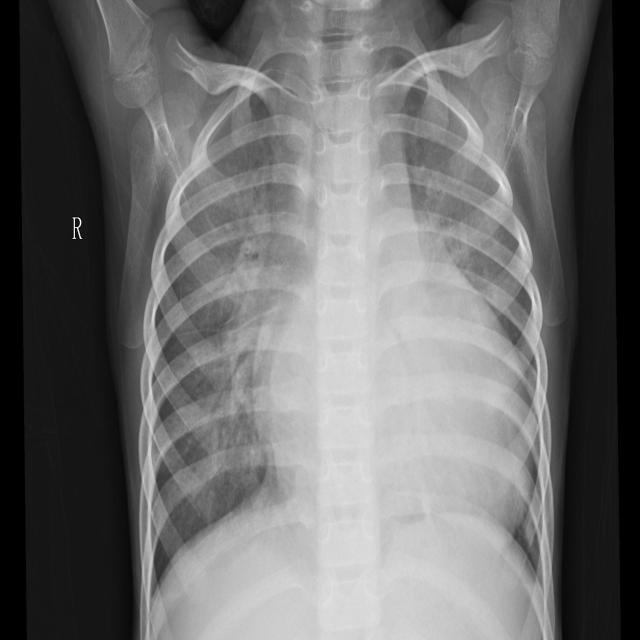low-pneumonia: (204, 83, 311, 355), (422, 165, 509, 290), (205, 352, 264, 479)
